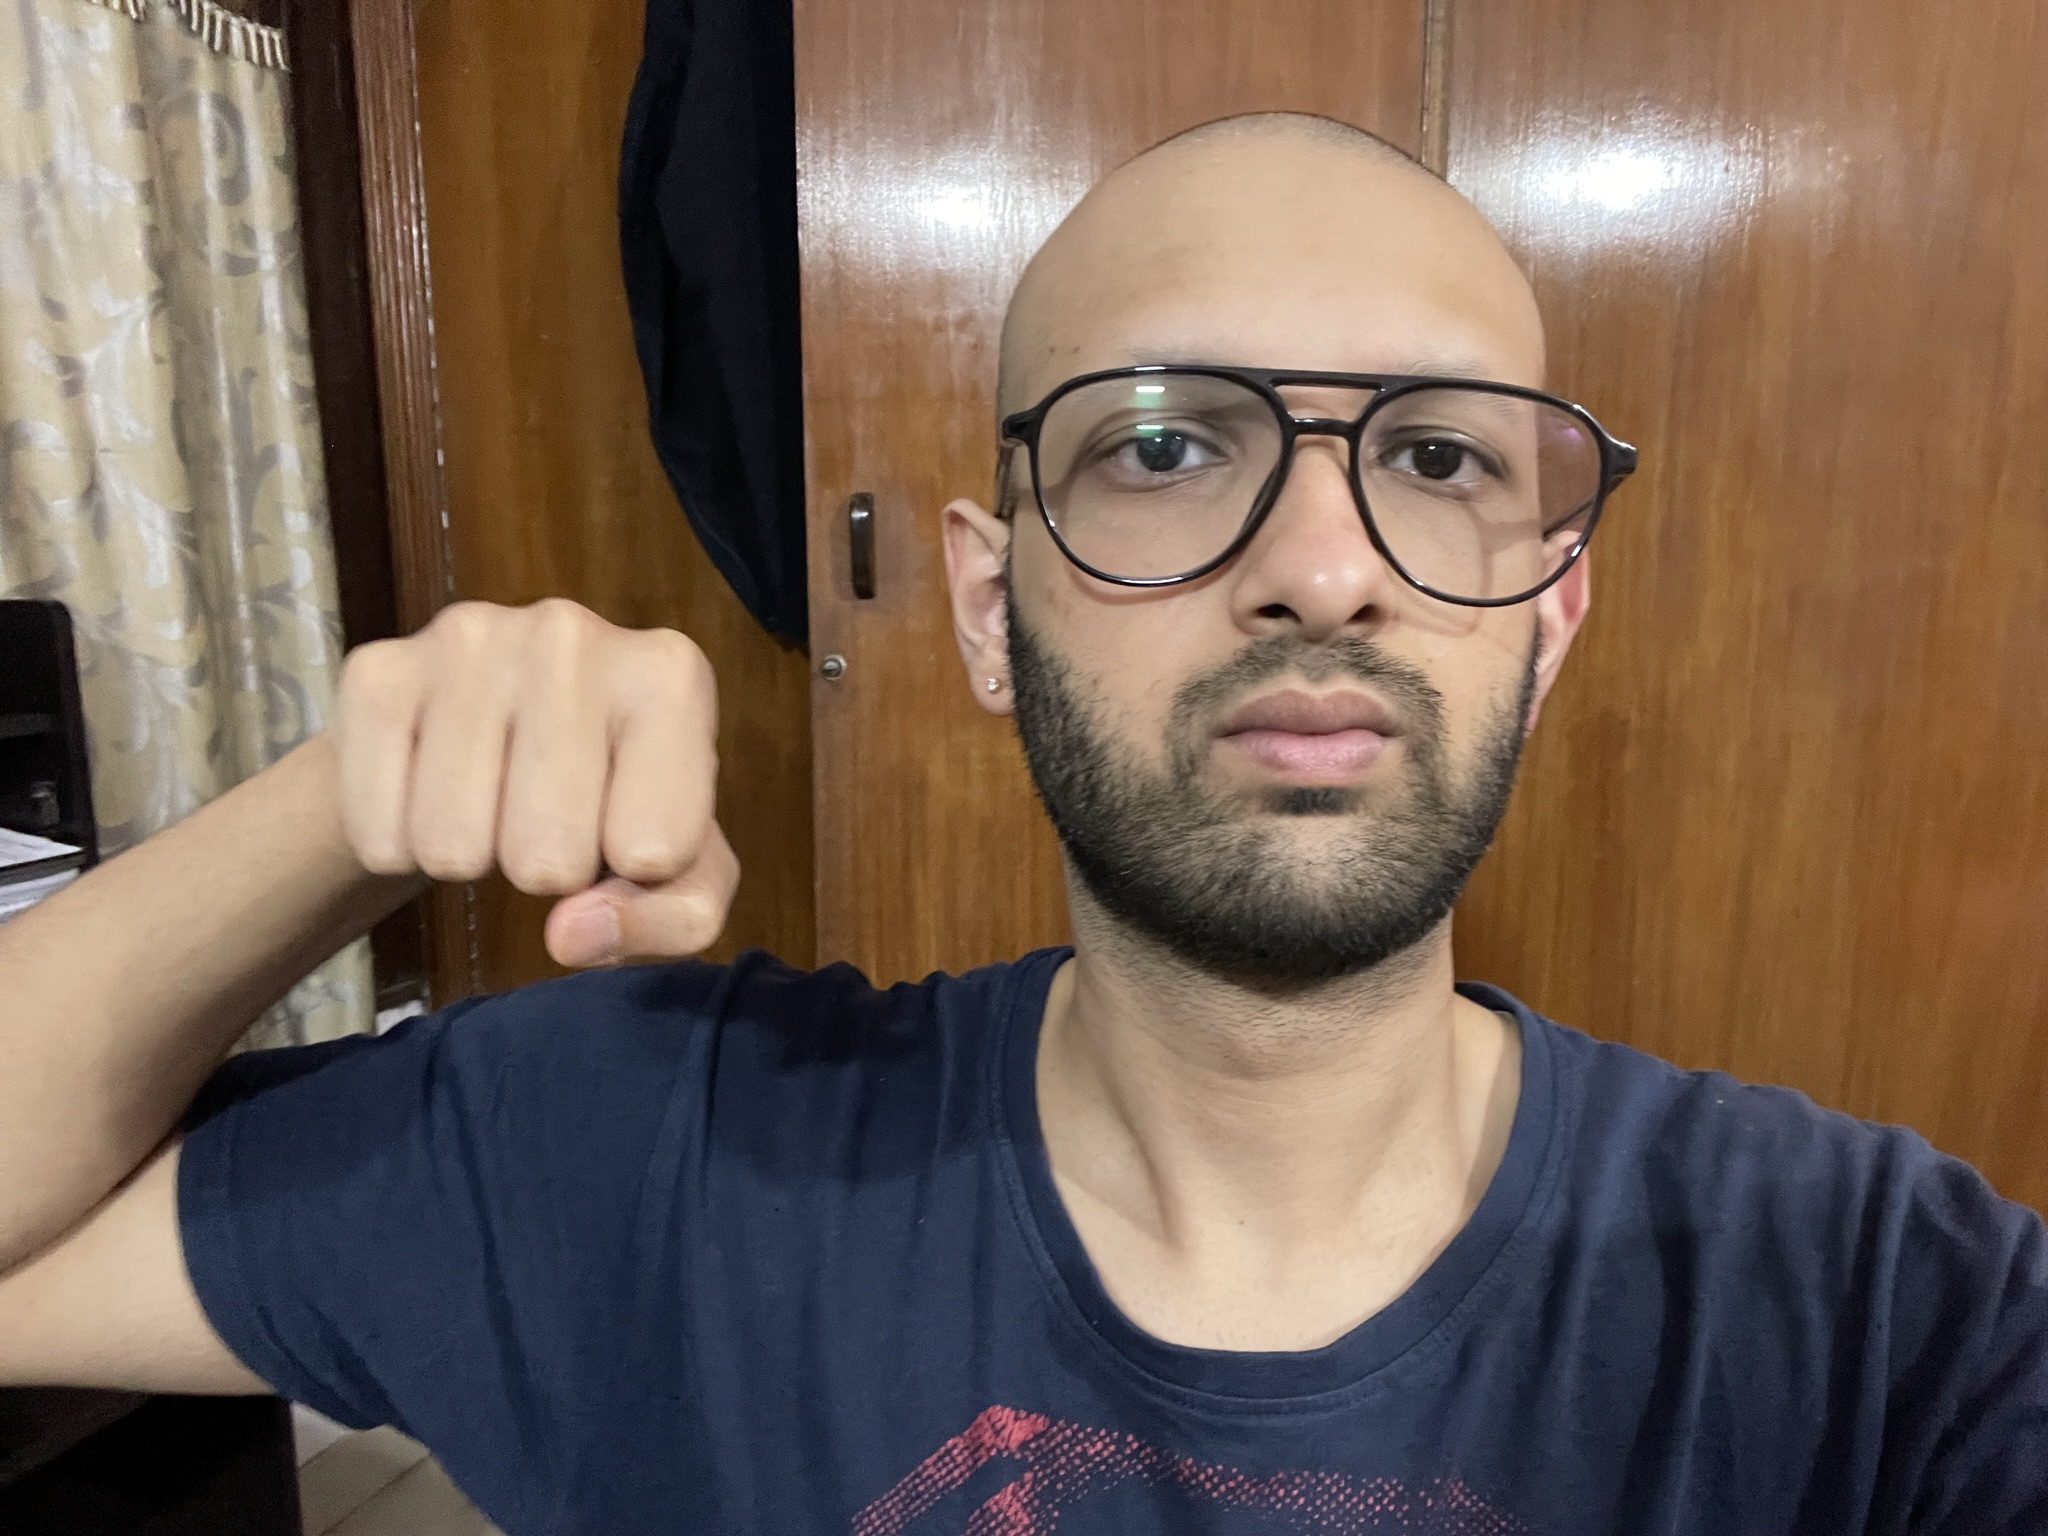Yes: (323, 586, 760, 981)
